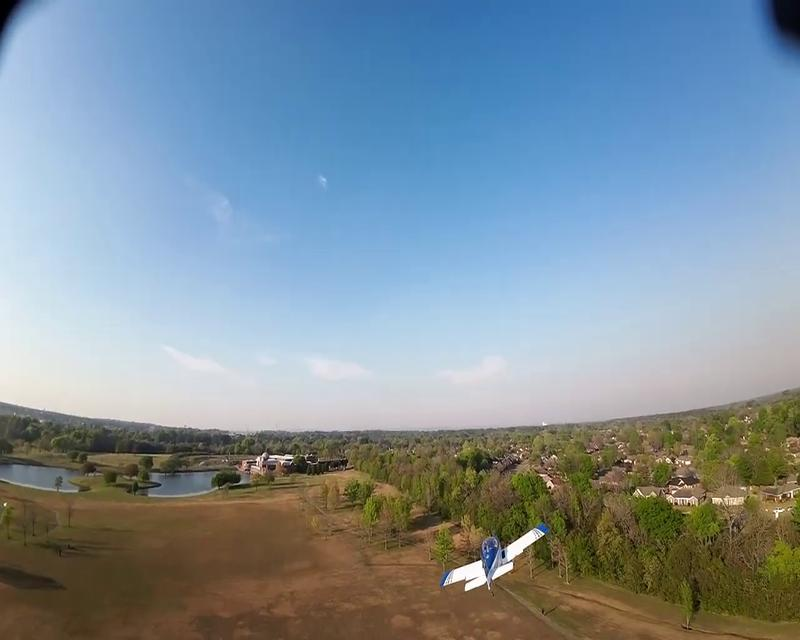UAV: (438, 520, 550, 594)
